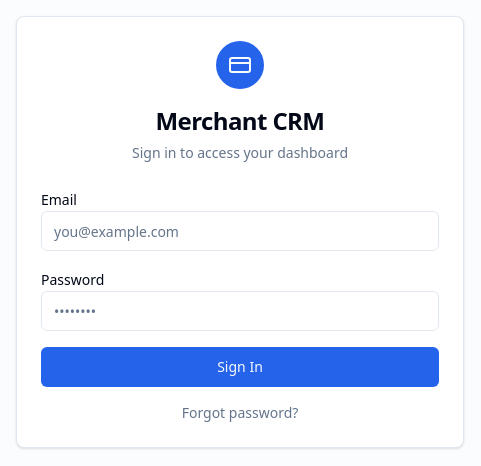
Login › should disable button while loading
Type "test@example.com" into the field labelled "Email".
click(240, 231); type("test@example.com")  # box [41,211,439,251]
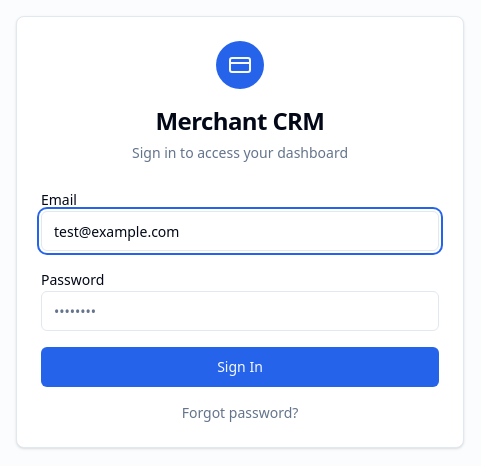
Type "password123" into the password field labelled "Password".
click(240, 311); type("password123")  # box [41,291,439,331]
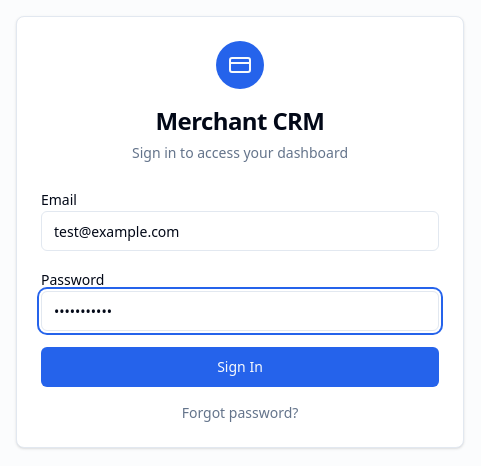
Click the button "Sign In".
click(240, 367)  # box [41,347,439,387]
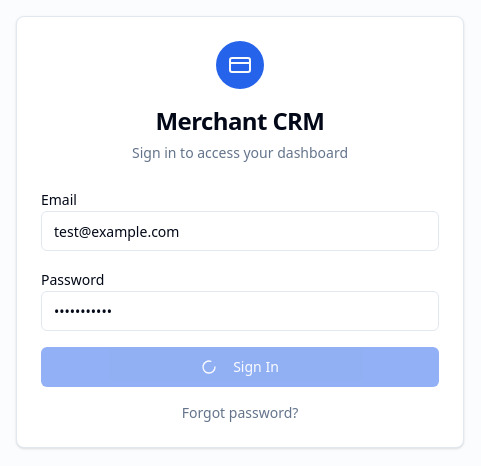
Now the button "Sign In" is disabled, box [41,347,439,387]
